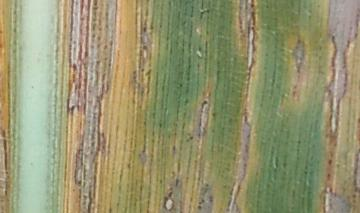tarspot: (183, 136, 196, 145), (198, 100, 209, 107), (168, 188, 175, 197), (195, 205, 203, 211), (172, 145, 178, 152), (208, 195, 213, 202), (212, 112, 218, 117), (179, 82, 184, 87), (197, 200, 203, 204), (201, 198, 205, 202)
